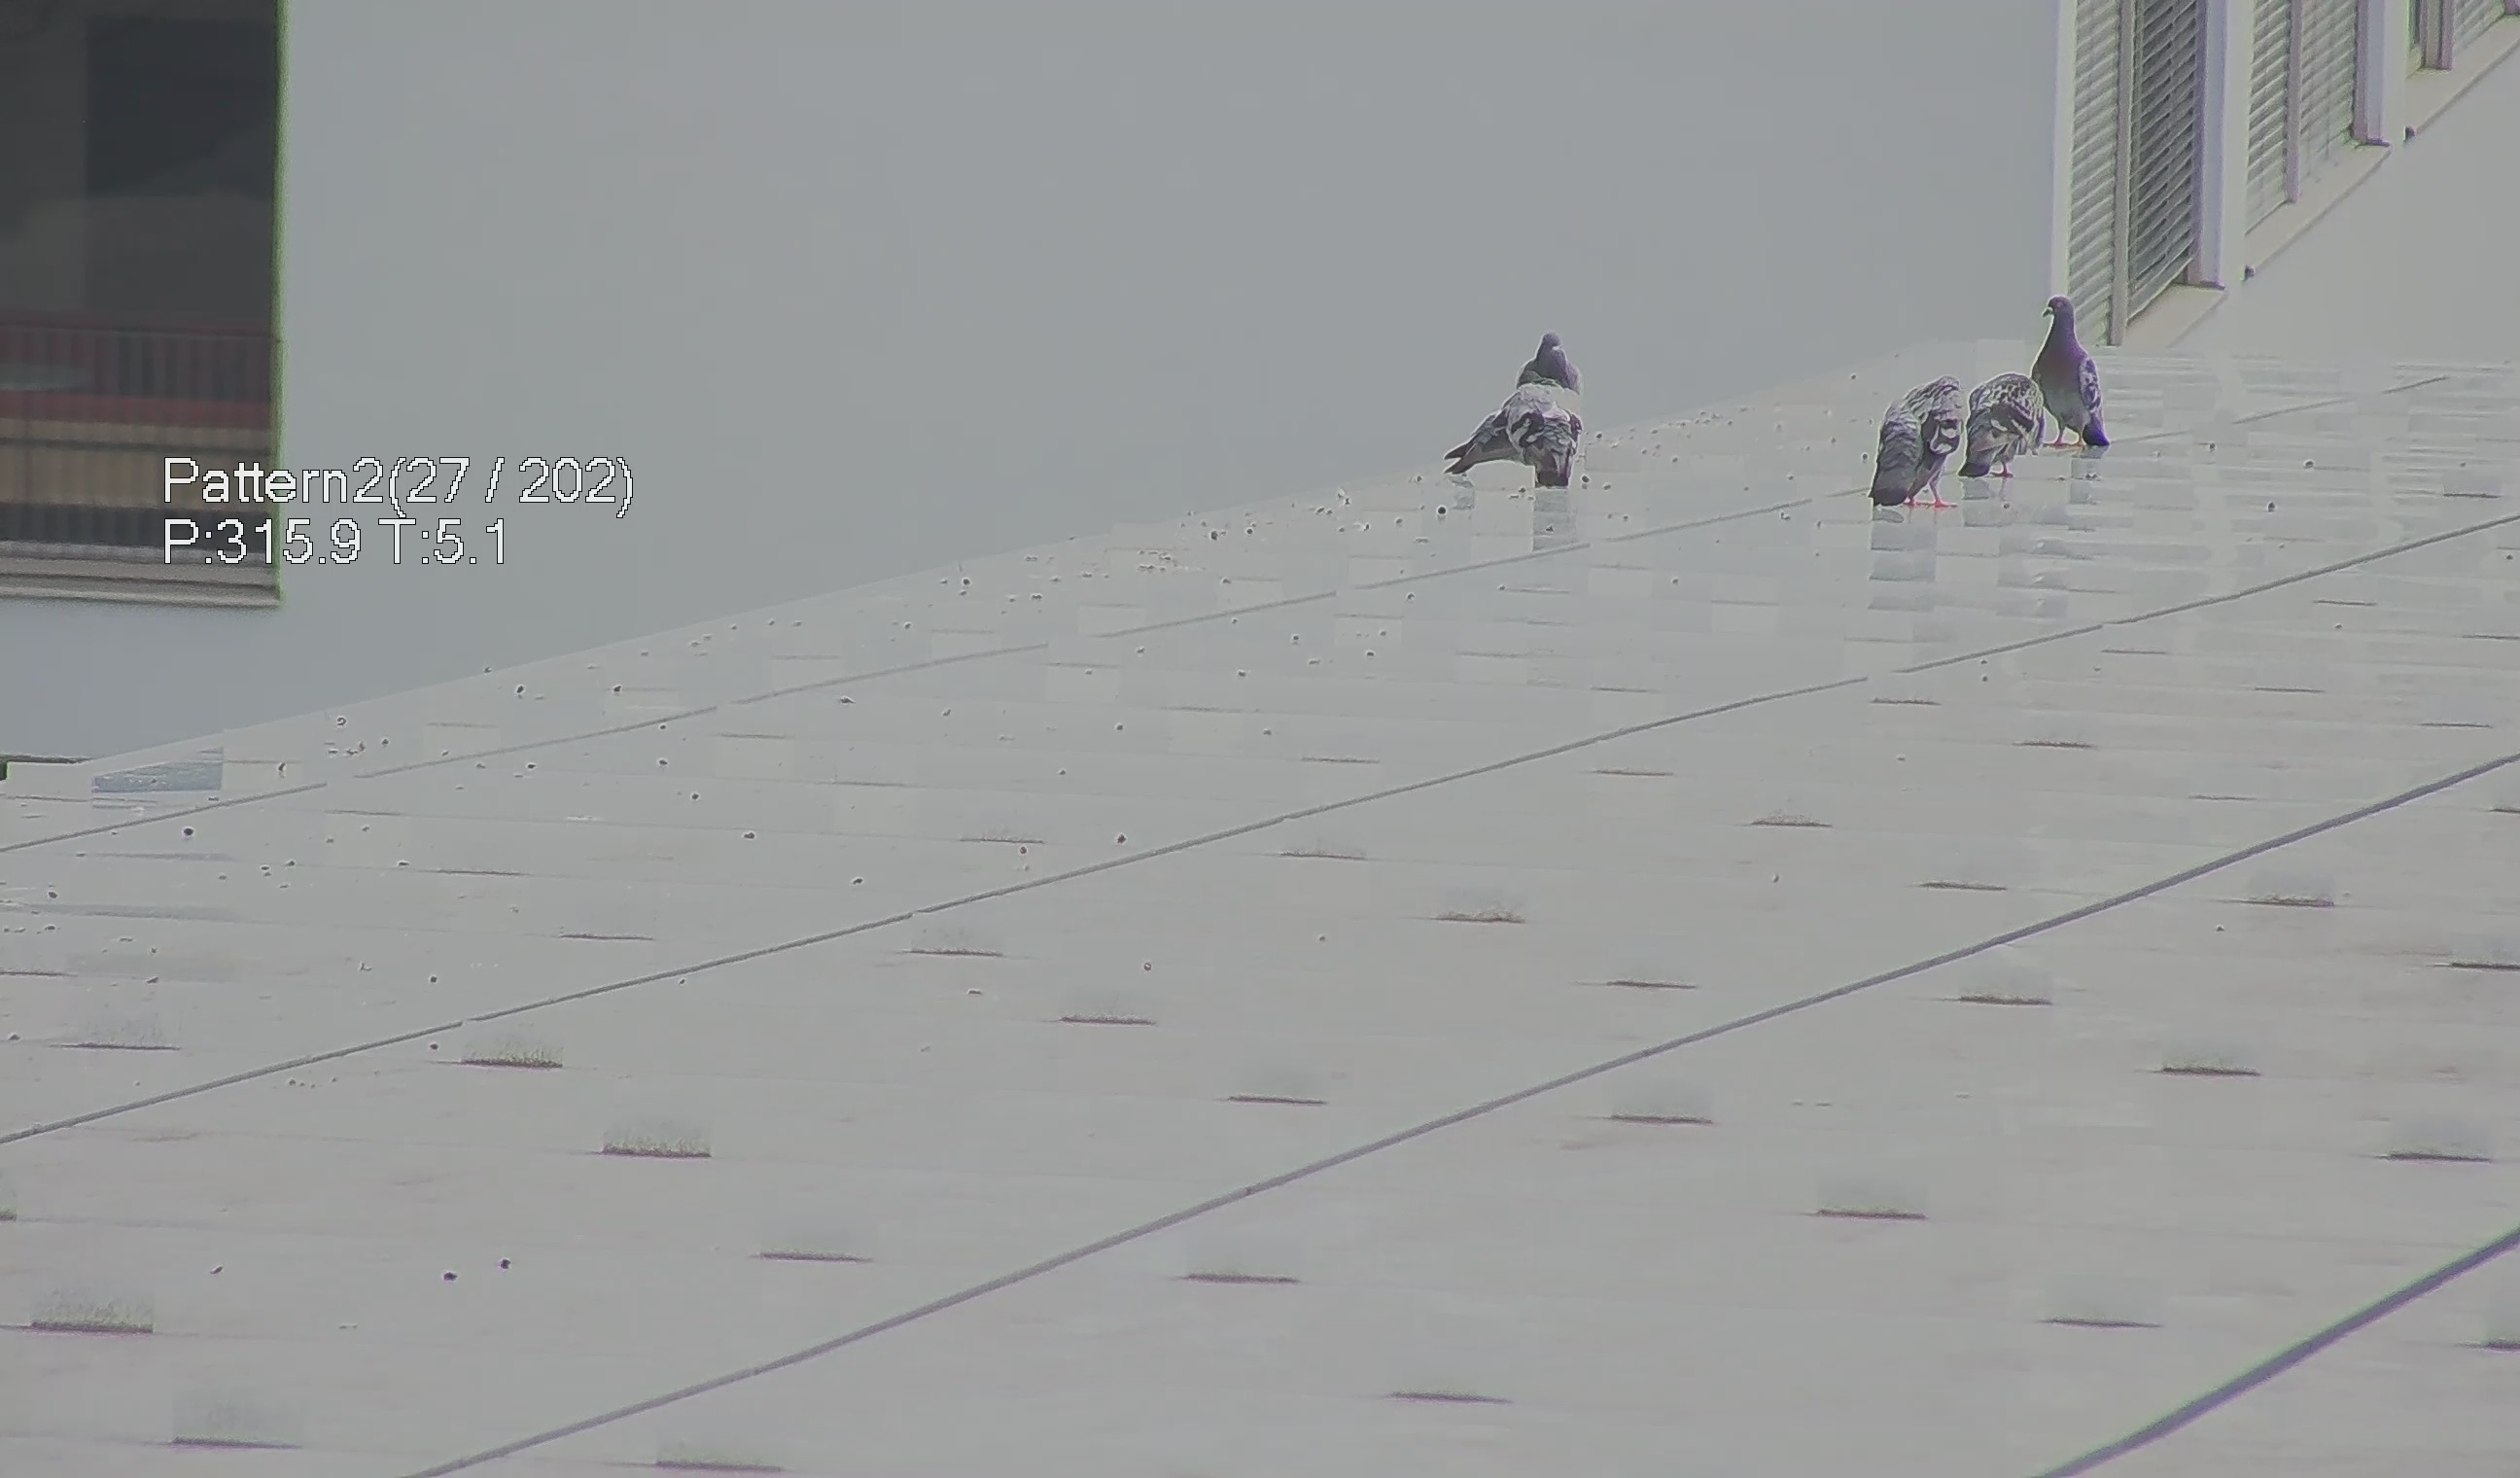Pigeon: (2022, 282, 2128, 456), (1481, 364, 1606, 501), (1878, 366, 1963, 519), (1966, 357, 2045, 496), (1507, 333, 1590, 426)
